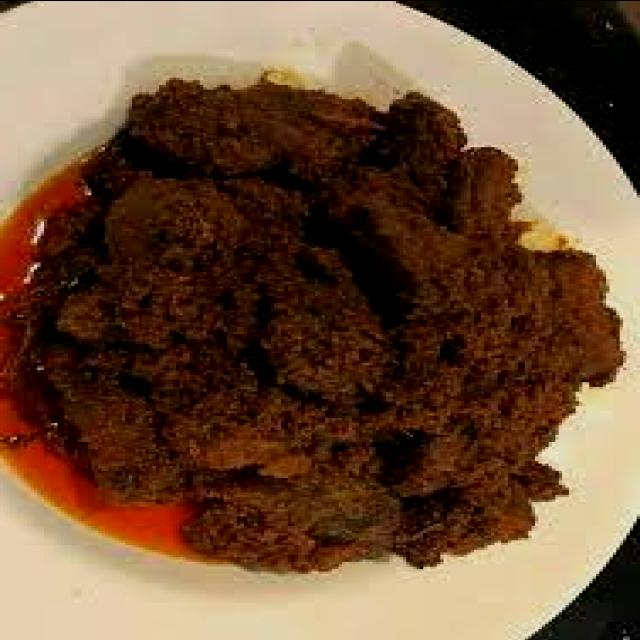rendang: (7, 70, 623, 578)
